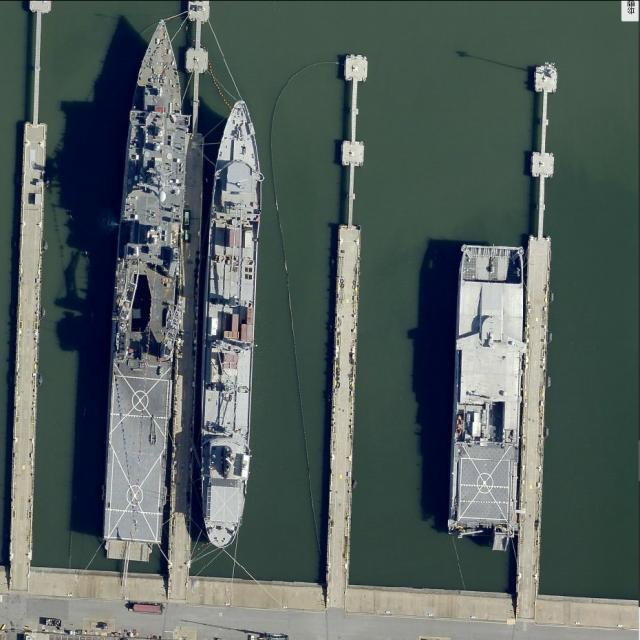Auxiliary Ships: (447, 244, 531, 534)
Dock: (165, 133, 205, 576), (9, 122, 46, 567), (515, 238, 551, 593), (326, 226, 359, 584)
Landing: (98, 16, 198, 565)
Other Warship: (194, 98, 267, 550)
